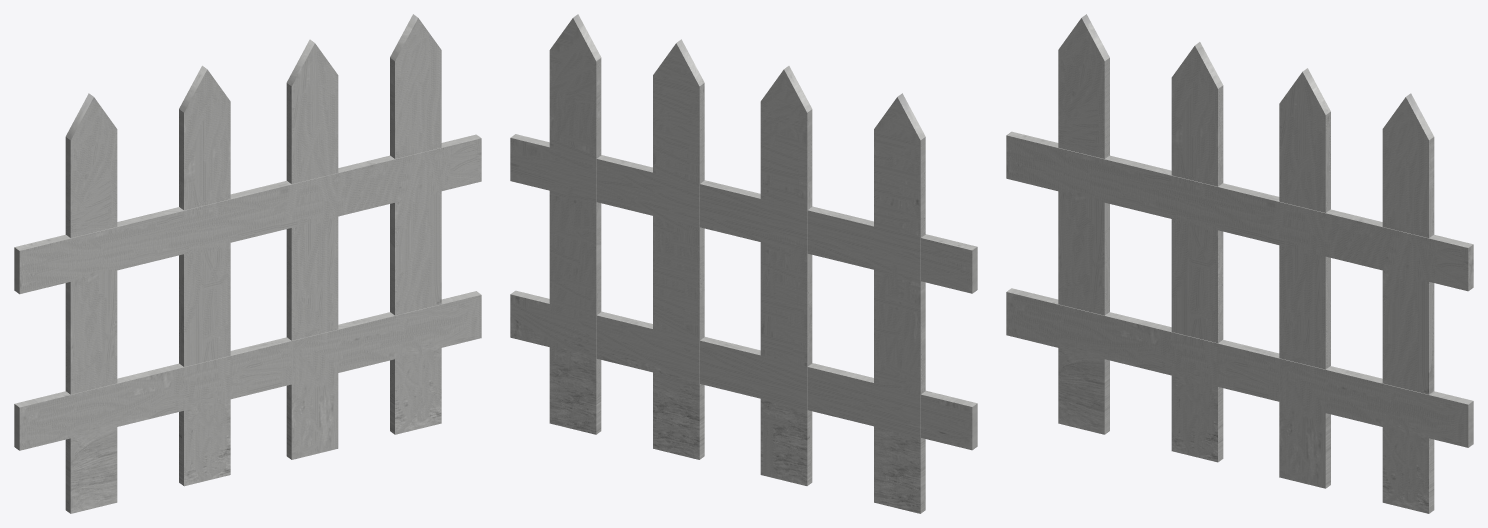
The picture shows the model from 3 angles, left to right: view 1: azimuth 30°, elevation 25°; view 2: azimuth 150°, elevation 25°; view 3: azimuth 330°, elevation 25°; orthographic projection.
Parts seen in each view (by area): view 1: fence1; view 2: fence1; view 3: fence1.
Part boxes in pixels (left/top/right/bottom): fence1: left=14, top=14, right=481, bottom=513; fence1: left=510, top=14, right=977, bottom=513; fence1: left=1006, top=14, right=1473, bottom=513.
Size of the model in its own units: 2 by 1.7 by 0.0414.
Materials: 1 (1 with a texture image).
